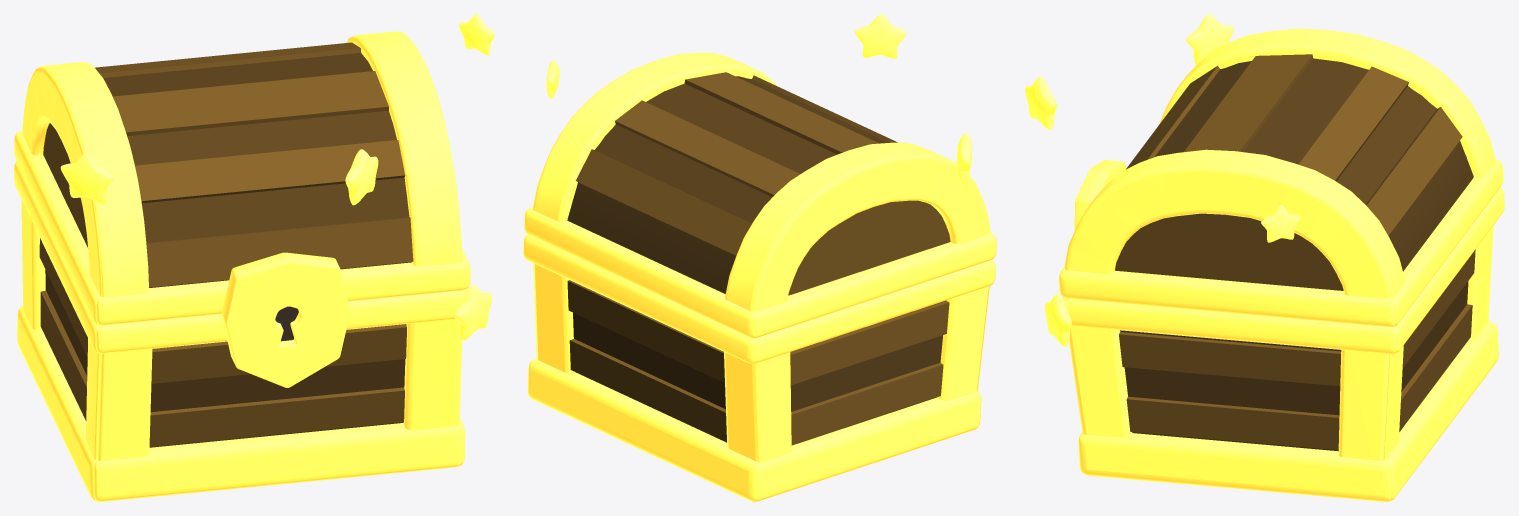
The model's file is africachest2.glb.
3 renders of one model, left to right at view 1: azimuth 30°, elevation 25°; view 2: azimuth 150°, elevation 25°; view 3: azimuth 270°, elevation 25°, orthographic. The views are drawn at different scales.
Visible parts, largest first — view 1: Box004.021; view 2: Box004.021; view 3: Box004.021.
Part boxes in pixels (left/top/right/bottom): Box004.021: left=14, top=14, right=494, bottom=501; Box004.021: left=523, top=14, right=996, bottom=501; Box004.021: left=1025, top=14, right=1504, bottom=501.
Bounding box in the file's own units: 0.0145 × 0.0113 × 0.0142.
